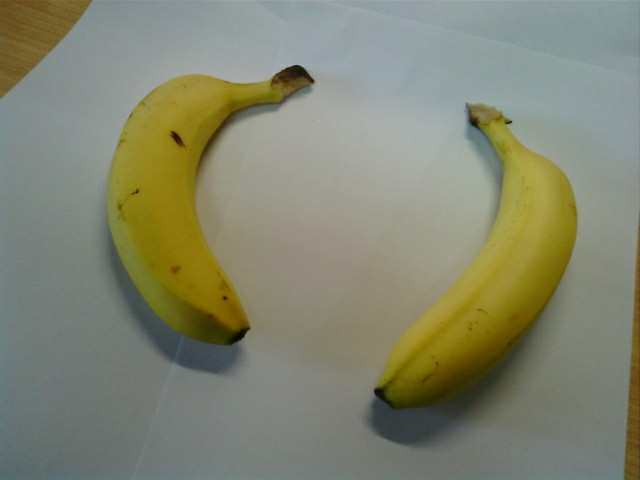fresh_banana: (371, 105, 581, 406)
normal_banana: (109, 68, 265, 349)
